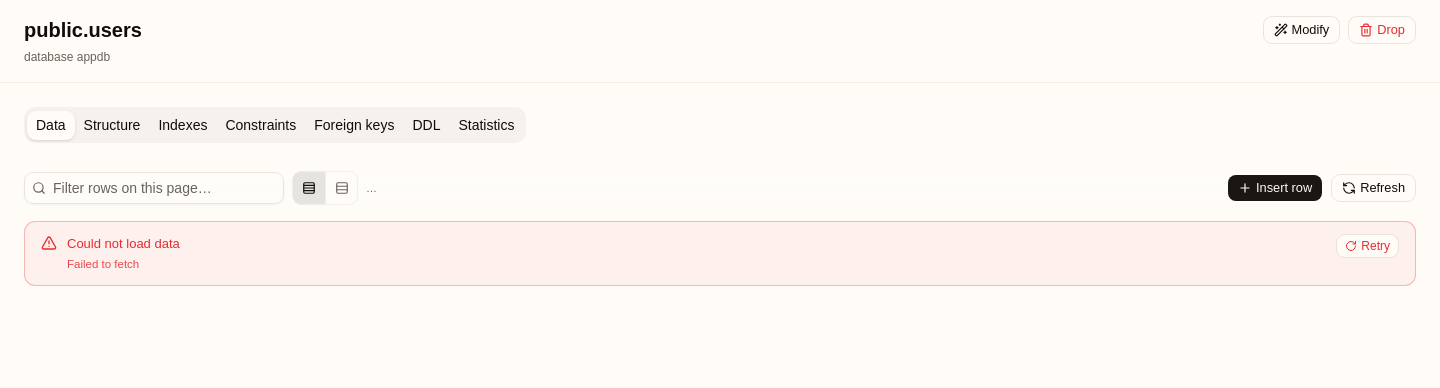
postgres TableDetailClient (characterization) › retries the failed view when Retry is clicked, issuing exactly one more request
expect the message "Could not load data Failed to fetch Retry" is shown: met, box [24,221,1416,286]
Click the button "Retry": {"x": 1368, "y": 246} [1336,234,1399,258]
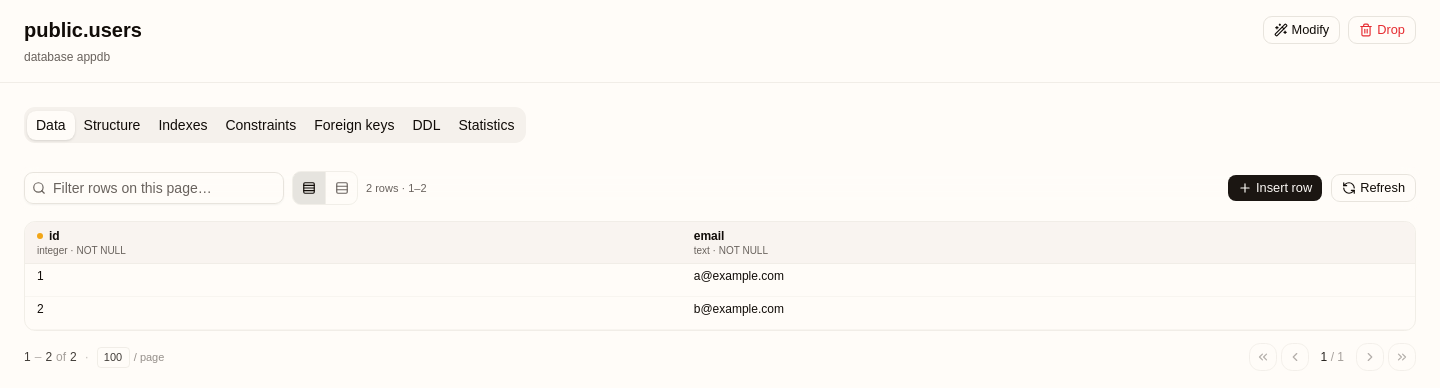
expect the text "a@example.com" is shown: met, box [682,264,1347,297]
expect the message "Could not load data Failed to fetch Retry" is gone: met
